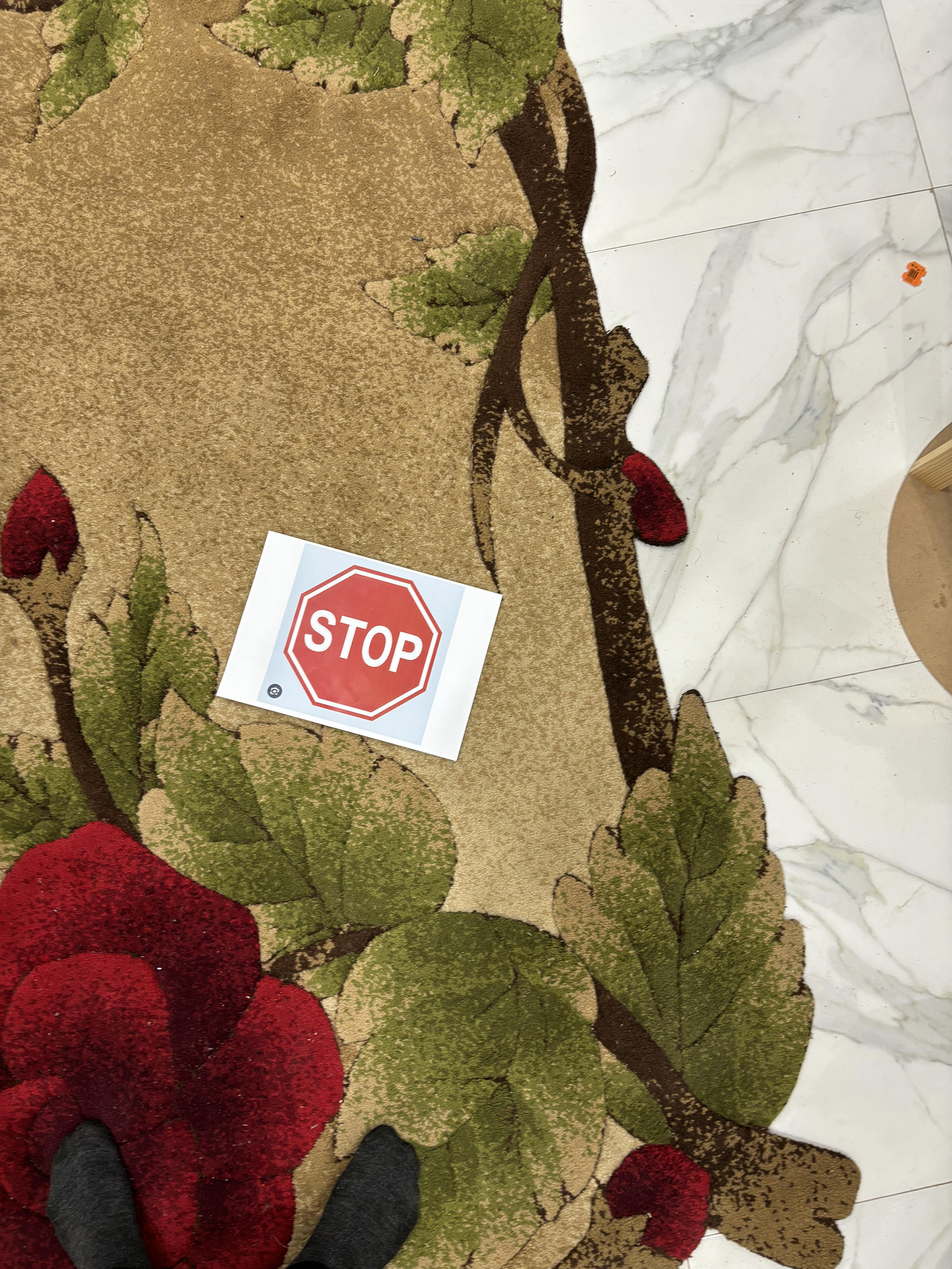Stop: (273, 561, 446, 721)
